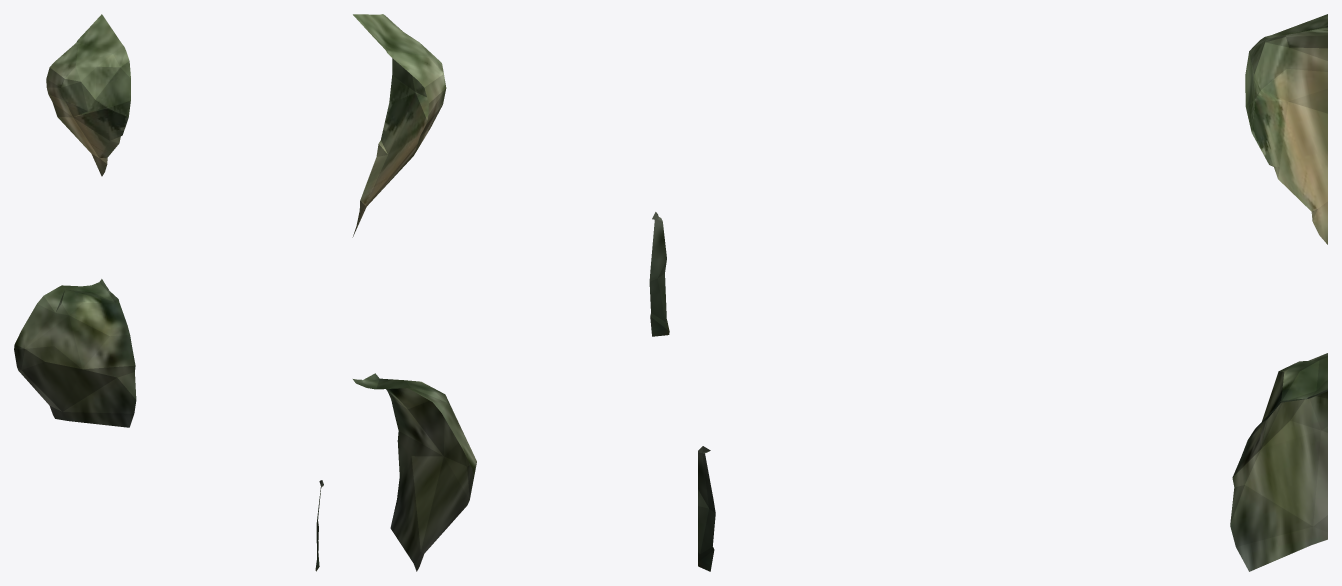
The picture shows the model from 3 angles, left to right: view 1: azimuth 30°, elevation 25°; view 2: azimuth 150°, elevation 25°; view 3: azimuth 270°, elevation 25°; orthographic projection. The views are drawn at different scales.
Size of the model in its own units: 0.6742 by 2.88 by 2.95.
1 material, 1 textured.
